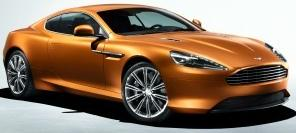front_view: (164, 43, 290, 116)
headlight: (172, 47, 231, 78)
side_glass: (44, 13, 107, 38)
